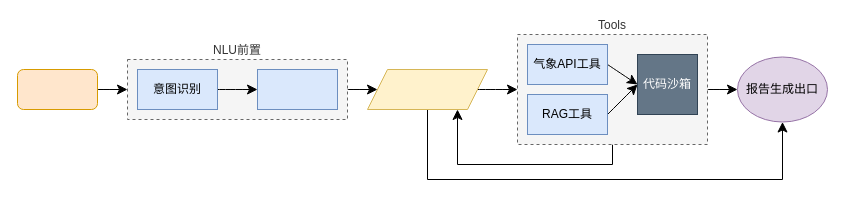
The diagram is 845 pixels wide and 207 high, and some of its shapes have lost their labels. The centre of each missing label's shape, as x and y in pixels:
"ReAct推理引擎" goes at (427,89).
"参数补全" goes at (297,89).
"用户查询" goes at (57,89).
